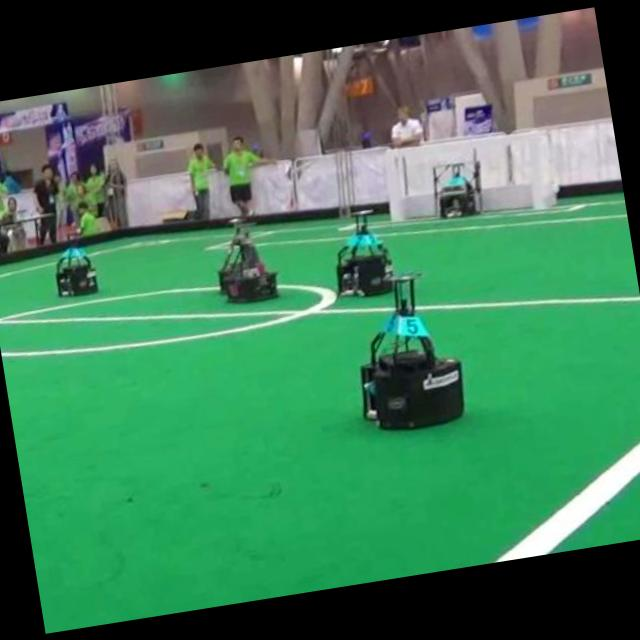goal: (384, 148, 406, 222), (528, 132, 546, 209)
robot: (361, 274, 463, 427), (336, 212, 391, 294), (218, 226, 276, 301), (433, 151, 483, 217), (55, 246, 96, 295)
